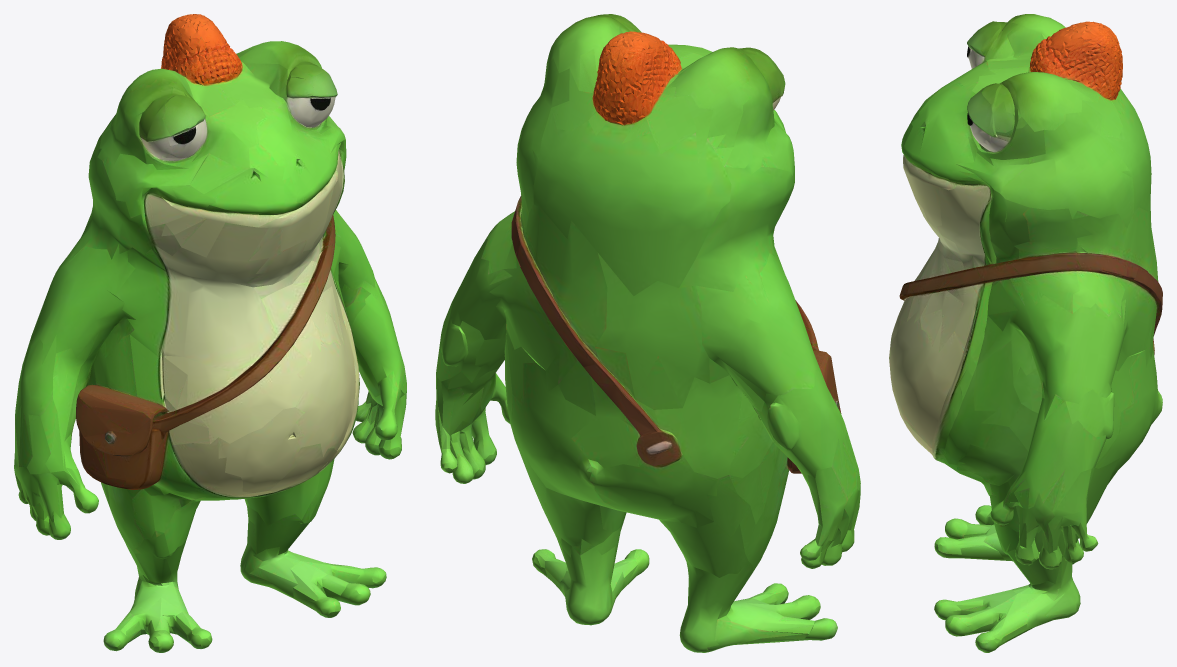
File: greg.glb
3 renders of one model, left to right at view 1: azimuth 30°, elevation 25°; view 2: azimuth 150°, elevation 25°; view 3: azimuth 270°, elevation 25°, orthographic. The views are drawn at different scales.
Bounding box in the file's own units: 1.33 × 1.9 × 0.8345.
1 material, 1 textured.
